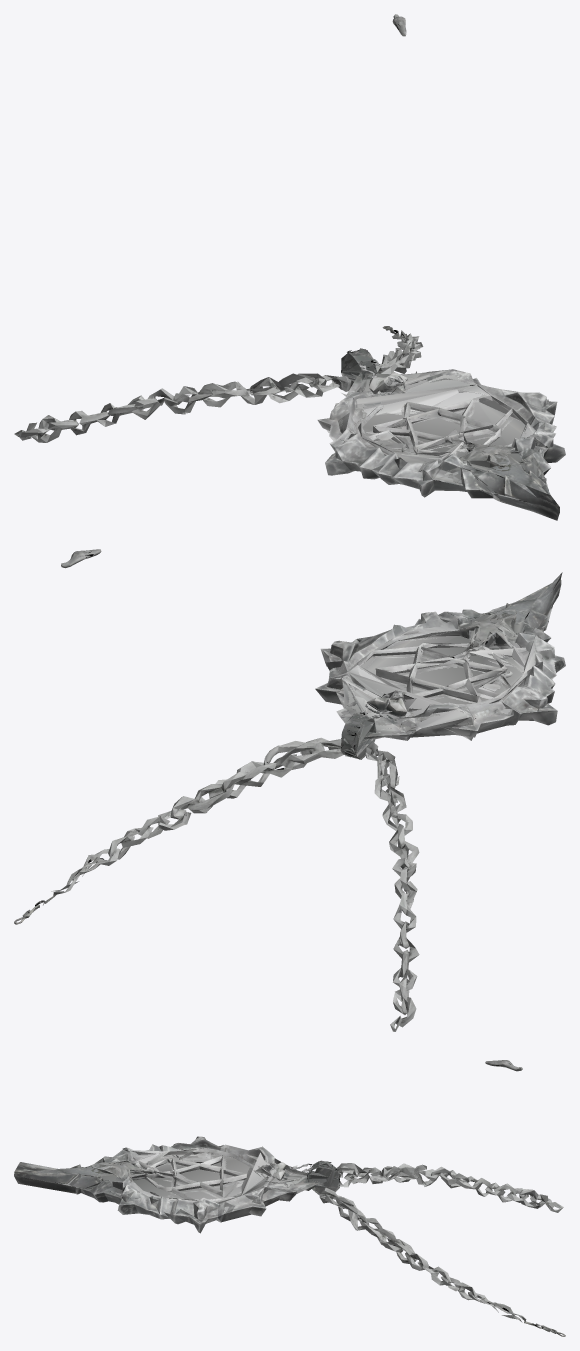
The model's file is medallion_necklace_LOD1.glb.
The picture shows the model from 3 angles, top to bottom: view 1: azimuth 30°, elevation 25°; view 2: azimuth 150°, elevation 25°; view 3: azimuth 270°, elevation 25°; orthographic projection. The views are drawn at different scales.
Visible parts, largest first — view 1: medallion_necklace_LOD1; view 2: medallion_necklace_LOD1; view 3: medallion_necklace_LOD1.
Boxes of the visible parts, bbox=[...] form: medallion_necklace_LOD1: bbox=[14, 14, 565, 520]; medallion_necklace_LOD1: bbox=[14, 549, 565, 1031]; medallion_necklace_LOD1: bbox=[14, 1060, 565, 1336].
Size of the model in its own units: 0.5634 by 0.5133 by 0.9103.
1 material, 1 textured.
